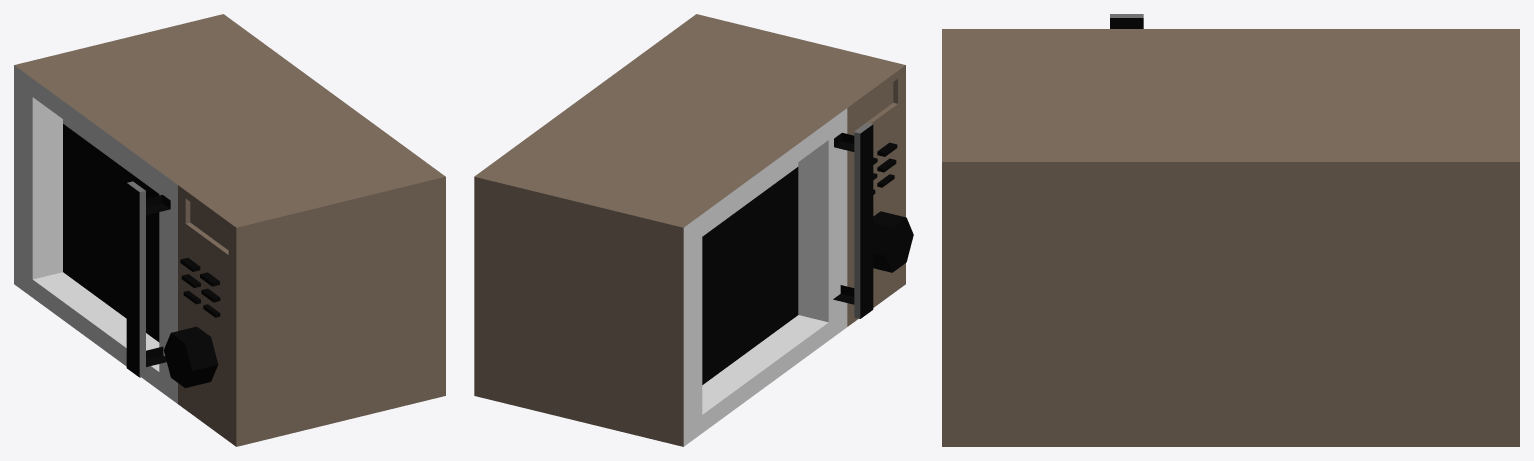
The model's file is microondas100.fbx.
3 renders of one model, left to right at view 1: azimuth 30°, elevation 25°; view 2: azimuth 150°, elevation 25°; view 3: azimuth 270°, elevation 25°, orthographic. The views are drawn at different scales.
Parts seen in each view (by area): view 1: microondas; view 2: microondas; view 3: microondas.
Boxes of the visible parts, <box> form: microondas: <box>14,14,445,446</box>; microondas: <box>474,14,913,446</box>; microondas: <box>942,14,1519,446</box>.
Bounding box in the file's own units: 231 × 200 × 368.
